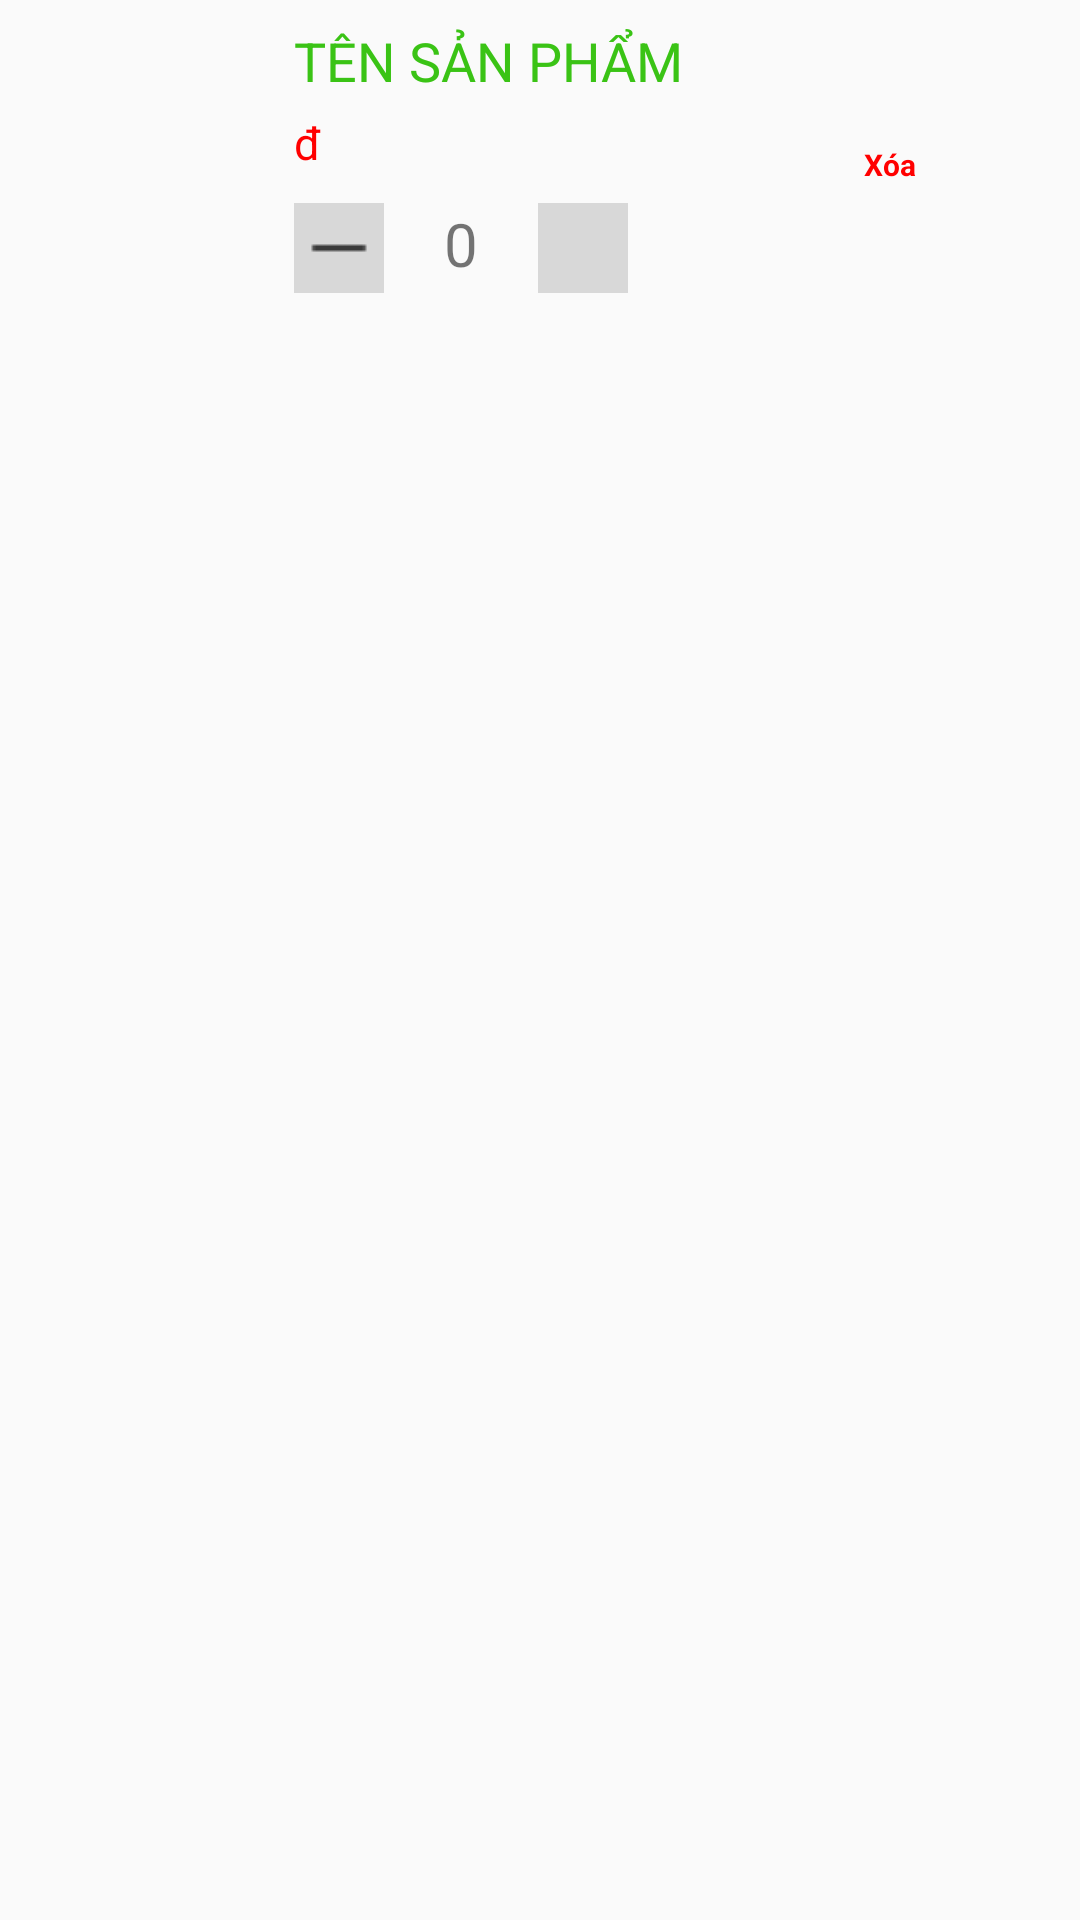

Icons on this 1080×1920 Android screen, each with its box as (x1, y1, x2, y2):
tru: (294, 203, 384, 293)
